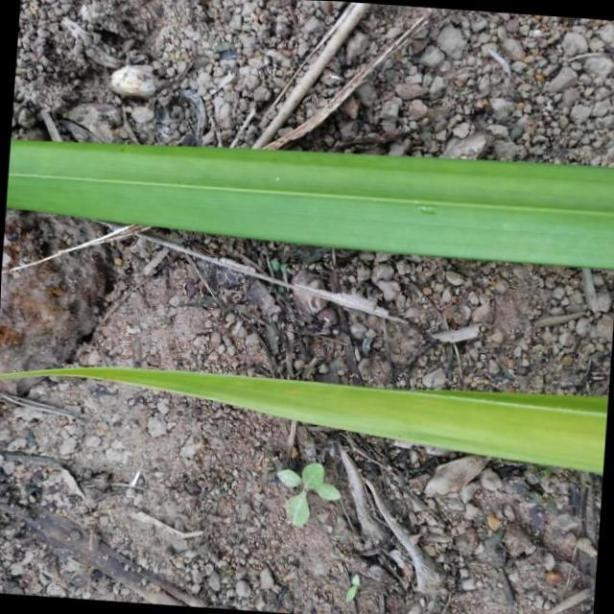nitrogen: (7, 134, 614, 273), (0, 360, 610, 478)
